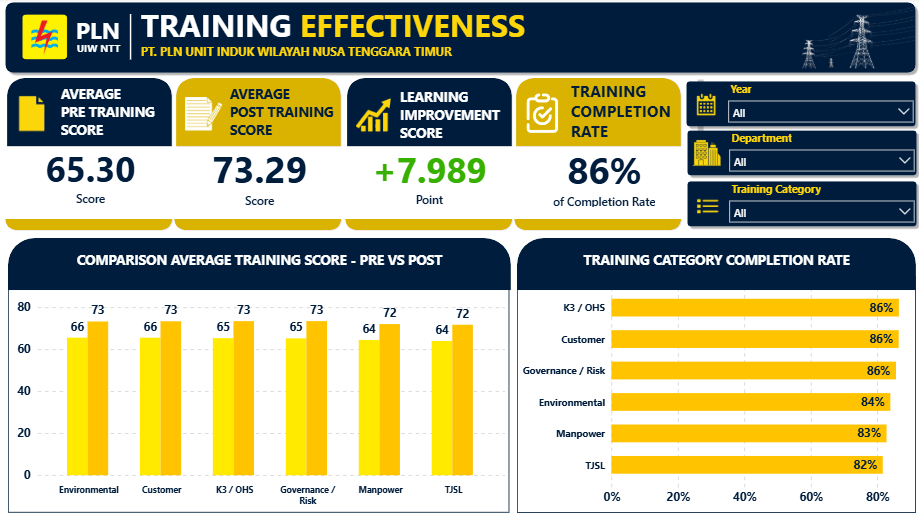

The page's visual inventory and layout, read from the dashboard file:
{"tool":"powerbi","page":{"name":"Training Effectiveness","canvas":[1280,720],"ordinal":2},"visuals":[{"type":"shape","box":[13.8,0,1264.9,108.7],"z":0,"group":"g17"},{"type":"group","id":"g1","title":"Group 1","box":[17.9,108.7,233.1,211.8],"z":0,"group":"g5"},{"type":"group","id":"g2","title":"Group 1","box":[250.5,108.7,233.1,211.8],"z":0,"group":"g6"},{"type":"group","id":"g3","title":"Group 1","box":[485.9,108.7,233.1,211.8],"z":0,"group":"g7"},{"type":"group","id":"g4","title":"Group 1","box":[718.5,108.7,233.1,211.8],"z":0,"group":"g8"},{"type":"image","box":[41.8,22.3,65.4,62.6],"z":1000,"group":"g17"},{"type":"textbox","box":[111.9,17,83.5,52.6],"z":2000,"group":"g17"},{"type":"textbox","box":[112.7,53.9,75.2,36.8],"z":3000,"group":"g17"},{"type":"shape","box":[185.1,22.3,15.3,62.6],"z":4000,"group":"g17"},{"type":"textbox","box":[201,2.8,567.1,70.2],"z":5000,"group":"g17"},{"type":"textbox","box":[201.2,57.4,442.6,45.7],"z":6000,"group":"g17"},{"type":"image","box":[1114.9,2.8,161,100.5],"z":7000,"group":"g17"},{"type":"group","id":"g5","title":"Group 3","box":[17.9,108.7,240.9,211.8],"z":8000,"group":"g17"},{"type":"barChart","fields":{"Category":["DimTraining.TrainingCategory"],"Y":["FactTraining.Training Completion Rate"]},"box":[724.2,382.8,548.6,326],"z":8000,"group":"g16"},{"type":"clusteredColumnChart","fields":{"Category":["DimTraining.TrainingCategory"],"Y":["Avg(FactTraining.PreTrainingScore)","Avg(FactTraining.PostTrainingScore)"]},"box":[23.4,396.4,689.5,312.4],"z":8000,"group":"g9"},{"type":"group","id":"g6","title":"Group 3","box":[250.5,108.7,233.1,211.8],"z":9000,"group":"g17"},{"type":"shape","box":[20.8,204.2,229.9,98.5],"z":9000,"group":"g21"},{"type":"shape","box":[253.4,204.2,229.9,98.5],"z":9000,"group":"g22"},{"type":"shape","box":[488.8,204.2,229.9,98.5],"z":9000,"group":"g23"},{"type":"shape","box":[721.4,204.2,229.9,98.5],"z":9000,"group":"g24"},{"type":"group","id":"g7","title":"Group 3","box":[485.9,108.7,262.9,211.8],"z":10000,"group":"g17"},{"type":"group","id":"g8","title":"Group 3","box":[718.5,108,266.4,212.5],"z":11000,"group":"g17"},{"type":"cardVisual","title":"Total Employee","fields":{"Data":["Avg(FactTraining.PreTrainingScore)"]},"box":[22.9,172,225,141.7],"z":11000,"group":"g5"},{"type":"cardVisual","title":"Total Employee","fields":{"Data":["Avg(FactTraining.PostTrainingScore)"]},"box":[255.2,175.8,228.3,135],"z":11000,"group":"g6"},{"type":"cardVisual","title":"Total Employee","fields":{"Data":["FactTraining.Learning Improvement Display Card"]},"box":[485.9,175.9,233.1,135.9],"z":11000,"group":"g7"},{"type":"cardVisual","title":"Total Employee","fields":{"Data":["FactTraining.Training Completion Rate"]},"box":[728.5,182.4,230.3,124.4],"z":11000,"group":"g8"},{"type":"shape","box":[20.8,108.7,229.9,97],"z":12000,"group":"g21"},{"type":"shape","box":[253.4,108.7,229.9,97],"z":12000,"group":"g22"},{"type":"shape","box":[488.8,108.7,229.9,97],"z":12000,"group":"g23"},{"type":"shape","box":[721.4,108.7,229.9,97],"z":12000,"group":"g24"},{"type":"image","box":[267,129.3,50.9,60.6],"z":12000,"group":"g6"},{"type":"image","box":[733.6,131.4,50.9,56.4],"z":12000,"group":"g8"},{"type":"image","box":[37.2,133.5,38.5,49.5],"z":12000,"group":"g5"},{"type":"image","box":[502.4,134.9,48.2,53.7],"z":12000,"group":"g7"},{"type":"group","id":"g9","title":"Group 9","box":[23.4,330.3,692.3,378.5],"z":12000,"group":"g17"},{"type":"textbox","box":[792.2,108,192.7,90.8],"z":13000,"group":"g8"},{"type":"group","id":"g10","title":"Group 7","box":[951,108.2,327.6,74],"z":13000,"group":"g17"},{"type":"textbox","box":[90.8,114.2,167.9,86.7],"z":13000,"group":"g5"},{"type":"textbox","box":[323.4,114.2,156.9,96.3],"z":13000,"group":"g6"},{"type":"textbox","box":[557.5,117,191.3,88.1],"z":13000,"group":"g7"},{"type":"group","id":"g11","title":"Group 7","box":[952.5,176.7,327.6,74],"z":14000,"group":"g17"},{"type":"group","id":"g12","title":"Group 7","box":[952.5,246.4,327.6,74.3],"z":15000,"group":"g17"},{"type":"shape","box":[17.9,302.1,233.1,18.3],"z":15000,"group":"g21"},{"type":"shape","box":[250.5,302.1,233.1,18.3],"z":15000,"group":"g22"},{"type":"shape","box":[485.9,302.1,233.1,18.3],"z":15000,"group":"g23"},{"type":"shape","box":[718.5,302.1,233.1,18.3],"z":15000,"group":"g24"},{"type":"group","id":"g13","title":"Group 4","box":[951,108.2,327.6,74],"z":16000,"group":"g18"},{"type":"group","id":"g14","title":"Group 4","box":[952.5,176.7,327.6,74],"z":16000,"group":"g19"},{"type":"image","box":[952.8,188.6,66.1,48.2],"z":16000,"group":"g17"},{"type":"group","id":"g15","title":"Group 4","box":[952.5,246.4,327.6,74],"z":16000,"group":"g20"},{"type":"shape","box":[23.4,330.3,692.3,71.9],"z":16000,"group":"g9"},{"type":"shape","box":[724,330.3,549.2,71.9],"z":16000,"group":"g16"},{"type":"image","box":[955.2,110.1,57.8,72.9],"z":17000,"group":"g17"},{"type":"textbox","box":[25.2,342.2,689.4,75.7],"z":17000,"group":"g9"},{"type":"textbox","box":[725.4,342.2,546.8,75.7],"z":17000,"group":"g16"},{"type":"image","box":[966.6,260.1,41.3,53.7],"z":18000,"group":"g17"},{"type":"shape","box":[951,108.2,327.6,74],"z":19000,"group":"g13"},{"type":"shape","box":[952.5,176.7,327.6,74],"z":19000,"group":"g14"},{"type":"shape","box":[952.5,246.4,327.6,74],"z":19000,"group":"g15"},{"type":"group","id":"g16","title":"Group 9","box":[724,330.3,549.2,378.5],"z":19000,"group":"g17"},{"type":"group","id":"g17","title":"Group 5","box":[13.8,0,1266.2,708.8],"z":19001},{"type":"group","id":"g18","title":"Group 8","box":[951,108.2,327.6,74],"z":19001,"group":"g10"},{"type":"group","id":"g19","title":"Group 8","box":[952.5,176.7,327.6,74],"z":19001,"group":"g11"},{"type":"group","id":"g20","title":"Group 8","box":[952.5,246.4,327.6,74],"z":19001,"group":"g12"},{"type":"slicer","fields":{"Values":["DimDate.Year"]},"box":[1004.7,113.4,269.8,57.8],"z":20000,"group":"g13"},{"type":"slicer","fields":{"Values":["DimEmployee.Department"]},"box":[1006.2,181.9,269.8,57.8],"z":20000,"group":"g14"},{"type":"slicer","fields":{"Values":["DimTraining.TrainingCategory"]},"box":[1006.2,251.6,269.8,57.8],"z":20000,"group":"g15"},{"type":"group","id":"g21","title":"Group 2","box":[17.9,108.7,233.1,211.8],"z":35002,"group":"g1"},{"type":"group","id":"g22","title":"Group 2","box":[250.5,108.7,233.1,211.8],"z":35002,"group":"g2"},{"type":"group","id":"g23","title":"Group 2","box":[485.9,108.7,233.1,211.8],"z":35002,"group":"g3"},{"type":"group","id":"g24","title":"Group 2","box":[718.5,108.7,233.1,211.8],"z":35002,"group":"g4"}]}

Visuals, with their boxes in screenshot pixels (x1, y1, x2, y2), scaled from the page's 1280x720 canvas onto the 919x517 screenshot:
shape: [x1=10, y1=0, x2=918, y2=78]
"Group 1" group: [x1=13, y1=78, x2=180, y2=230]
"Group 1" group: [x1=180, y1=78, x2=347, y2=230]
"Group 1" group: [x1=349, y1=78, x2=516, y2=230]
"Group 1" group: [x1=516, y1=78, x2=683, y2=230]
image: [x1=30, y1=16, x2=77, y2=61]
textbox: [x1=80, y1=12, x2=140, y2=50]
textbox: [x1=81, y1=39, x2=135, y2=65]
shape: [x1=133, y1=16, x2=144, y2=61]
textbox: [x1=144, y1=2, x2=551, y2=52]
textbox: [x1=144, y1=41, x2=462, y2=74]
image: [x1=800, y1=2, x2=916, y2=74]
"Group 3" group: [x1=13, y1=78, x2=186, y2=230]
barChart - DimTraining.TrainingCategory x FactTraining.Training Completion Rate: [x1=520, y1=275, x2=914, y2=509]
clusteredColumnChart - DimTraining.TrainingCategory x Avg(FactTraining.PreTrainingScore): [x1=17, y1=285, x2=512, y2=509]
"Group 3" group: [x1=180, y1=78, x2=347, y2=230]
shape: [x1=15, y1=147, x2=180, y2=217]
shape: [x1=182, y1=147, x2=347, y2=217]
shape: [x1=351, y1=147, x2=516, y2=217]
shape: [x1=518, y1=147, x2=683, y2=217]
"Group 3" group: [x1=349, y1=78, x2=538, y2=230]
"Group 3" group: [x1=516, y1=78, x2=707, y2=230]
"Total Employee" cardVisual: [x1=16, y1=124, x2=178, y2=225]
"Total Employee" cardVisual: [x1=183, y1=126, x2=347, y2=223]
"Total Employee" cardVisual: [x1=349, y1=126, x2=516, y2=224]
"Total Employee" cardVisual: [x1=523, y1=131, x2=688, y2=220]
shape: [x1=15, y1=78, x2=180, y2=148]
shape: [x1=182, y1=78, x2=347, y2=148]
shape: [x1=351, y1=78, x2=516, y2=148]
shape: [x1=518, y1=78, x2=683, y2=148]
image: [x1=192, y1=93, x2=228, y2=136]
image: [x1=527, y1=94, x2=563, y2=135]
image: [x1=27, y1=96, x2=54, y2=131]
image: [x1=361, y1=97, x2=395, y2=135]
"Group 9" group: [x1=17, y1=237, x2=514, y2=509]
textbox: [x1=569, y1=78, x2=707, y2=143]
"Group 7" group: [x1=683, y1=78, x2=918, y2=131]
textbox: [x1=65, y1=82, x2=186, y2=144]
textbox: [x1=232, y1=82, x2=345, y2=151]
textbox: [x1=400, y1=84, x2=538, y2=147]
"Group 7" group: [x1=684, y1=127, x2=918, y2=180]
"Group 7" group: [x1=684, y1=177, x2=918, y2=230]
shape: [x1=13, y1=217, x2=180, y2=230]
shape: [x1=180, y1=217, x2=347, y2=230]
shape: [x1=349, y1=217, x2=516, y2=230]
shape: [x1=516, y1=217, x2=683, y2=230]
"Group 4" group: [x1=683, y1=78, x2=918, y2=131]
"Group 4" group: [x1=684, y1=127, x2=918, y2=180]
image: [x1=684, y1=135, x2=732, y2=170]
"Group 4" group: [x1=684, y1=177, x2=918, y2=230]
shape: [x1=17, y1=237, x2=514, y2=289]
shape: [x1=520, y1=237, x2=914, y2=289]
image: [x1=686, y1=79, x2=727, y2=131]
textbox: [x1=18, y1=246, x2=513, y2=300]
textbox: [x1=521, y1=246, x2=913, y2=300]
image: [x1=694, y1=187, x2=724, y2=225]
shape: [x1=683, y1=78, x2=918, y2=131]
shape: [x1=684, y1=127, x2=918, y2=180]
shape: [x1=684, y1=177, x2=918, y2=230]
"Group 9" group: [x1=520, y1=237, x2=914, y2=509]
"Group 5" group: [x1=10, y1=0, x2=918, y2=509]
"Group 8" group: [x1=683, y1=78, x2=918, y2=131]
"Group 8" group: [x1=684, y1=127, x2=918, y2=180]
"Group 8" group: [x1=684, y1=177, x2=918, y2=230]
slicer - DimDate.Year: [x1=721, y1=81, x2=915, y2=123]
slicer - DimEmployee.Department: [x1=722, y1=131, x2=916, y2=172]
slicer - DimTraining.TrainingCategory: [x1=722, y1=181, x2=916, y2=222]
"Group 2" group: [x1=13, y1=78, x2=180, y2=230]
"Group 2" group: [x1=180, y1=78, x2=347, y2=230]
"Group 2" group: [x1=349, y1=78, x2=516, y2=230]
"Group 2" group: [x1=516, y1=78, x2=683, y2=230]
